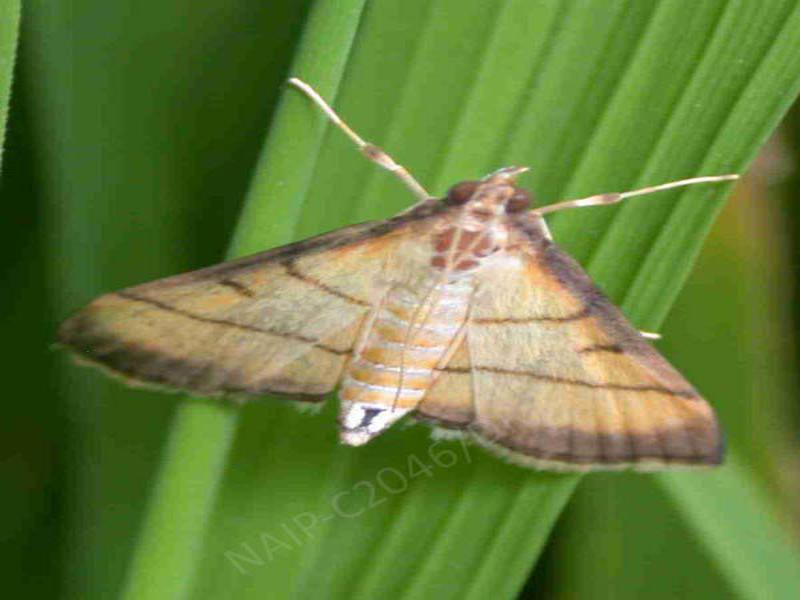Leaf_folder: (55, 159, 750, 501)
